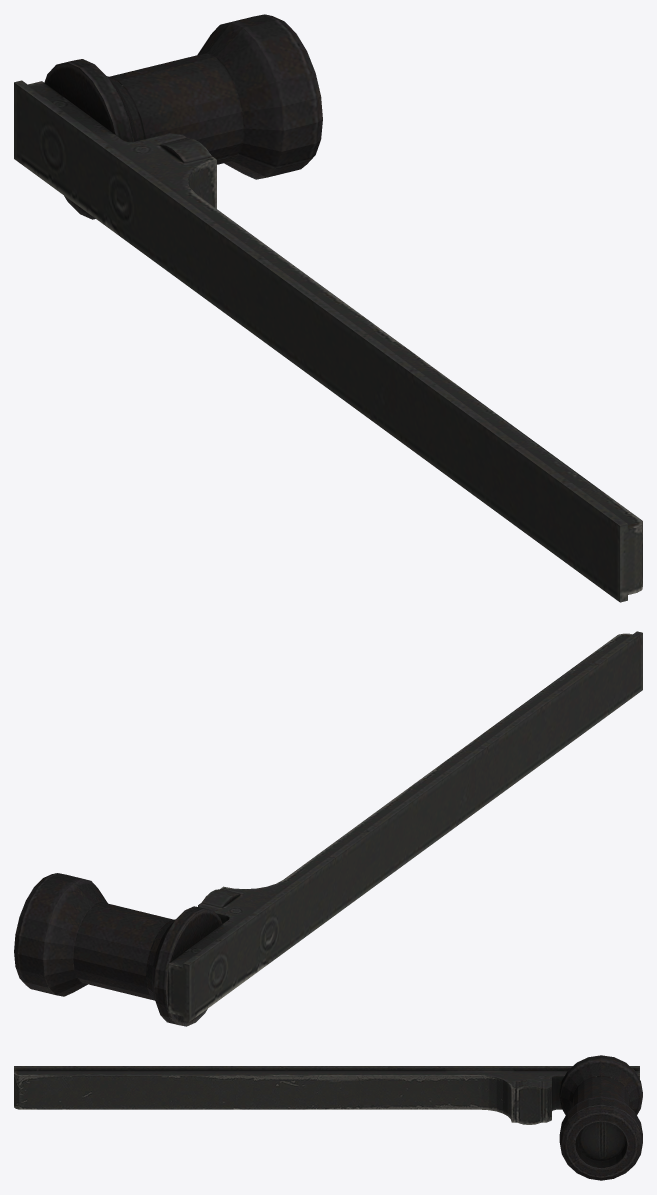
3 renders of one model, top to bottom at view 1: azimuth 30°, elevation 25°; view 2: azimuth 150°, elevation 25°; view 3: azimuth 270°, elevation 25°, orthographic. The views are drawn at different scales.
Visible parts, largest first — view 1: TW_5b0bbe4e5acfc40dc528a72d_PZ_Import; view 2: TW_5b0bbe4e5acfc40dc528a72d_PZ_Import; view 3: TW_5b0bbe4e5acfc40dc528a72d_PZ_Import.
Boxes of the visible parts, <box> form: TW_5b0bbe4e5acfc40dc528a72d_PZ_Import: <box>14,14,642,602</box>; TW_5b0bbe4e5acfc40dc528a72d_PZ_Import: <box>14,631,642,1026</box>; TW_5b0bbe4e5acfc40dc528a72d_PZ_Import: <box>14,1055,642,1180</box>.
Bounding box in the file's own units: 0.0187 × 0.0837 × 0.0111.
Materials: 1 (1 with a texture image).
